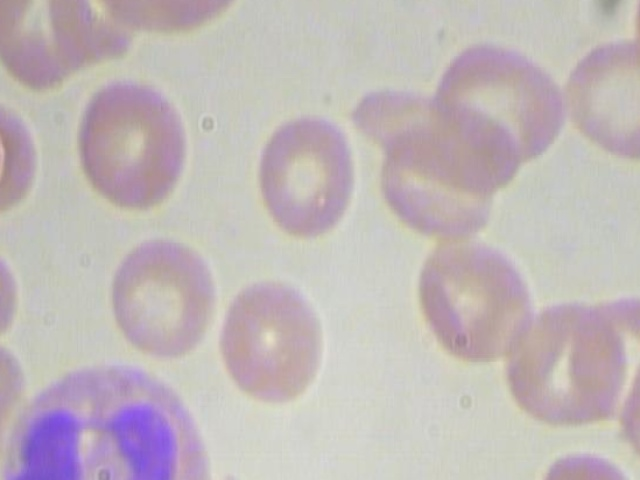RBC: (421, 29, 572, 186), (383, 230, 551, 369), (335, 77, 525, 199), (500, 282, 634, 430), (63, 73, 194, 223), (211, 266, 339, 412), (246, 105, 360, 249), (103, 225, 217, 368), (557, 23, 640, 173), (126, 0, 257, 44), (525, 436, 640, 480)
WBC: (0, 356, 218, 480)
